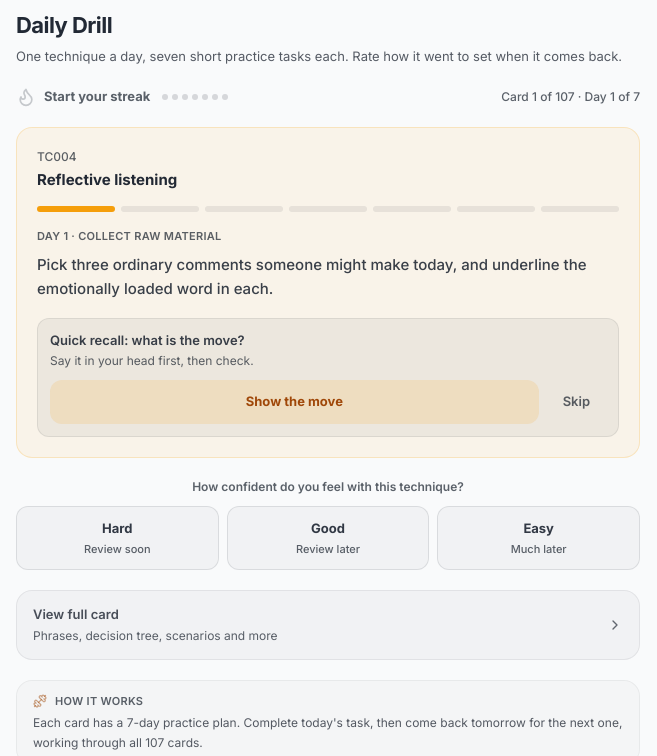
lazy card consumer transitions › keeps the completed Drill state if the next card cannot be prefetched
Click the button with aria-label "Good: review later" at (328, 538), box x1=227 y1=506 x2=429 y2=570
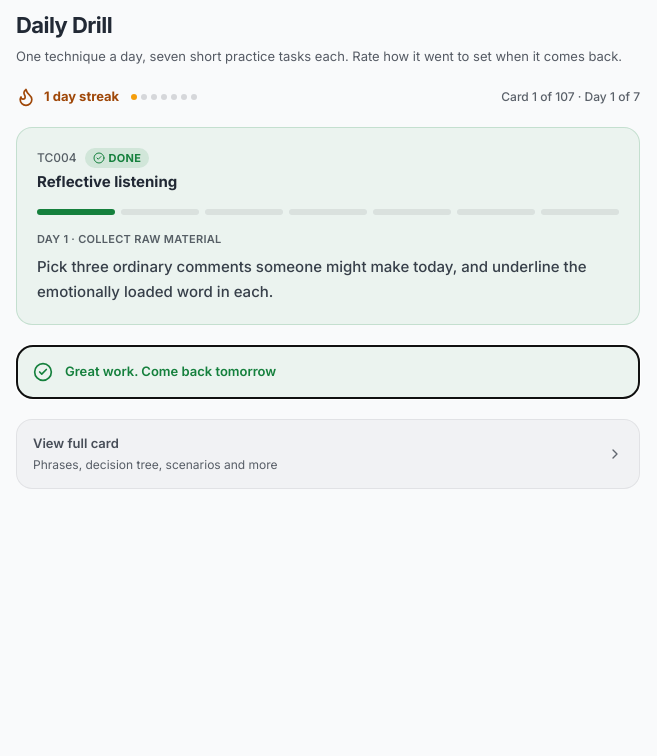
Result: the text "Great work. Come back tomorrow" is shown at x1=65 y1=363 x2=276 y2=379
